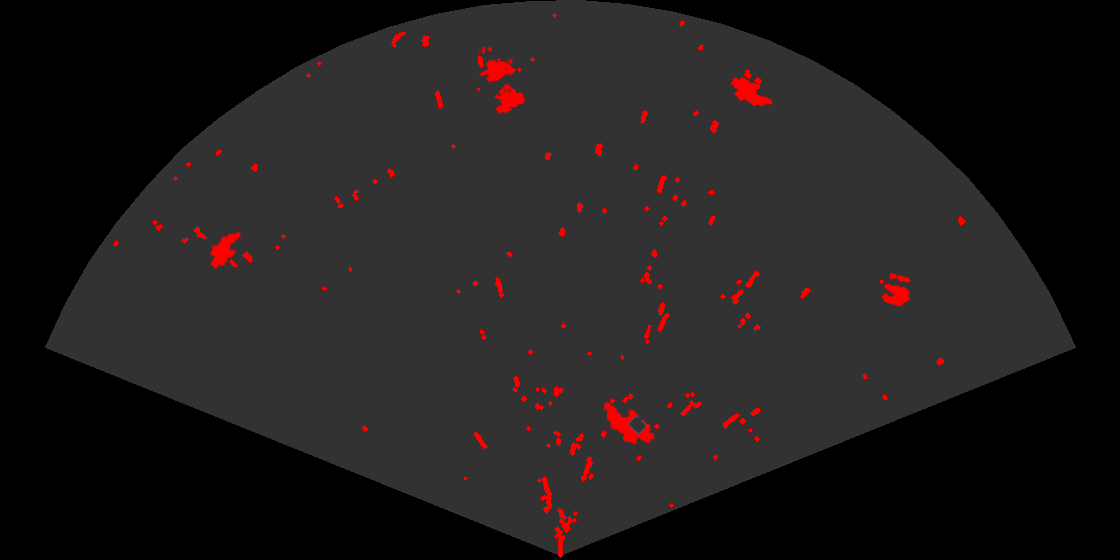AUV: (602, 401, 656, 446), (729, 76, 774, 108), (208, 230, 243, 270)
ball: (880, 271, 912, 308)
cage: (477, 47, 527, 116)
